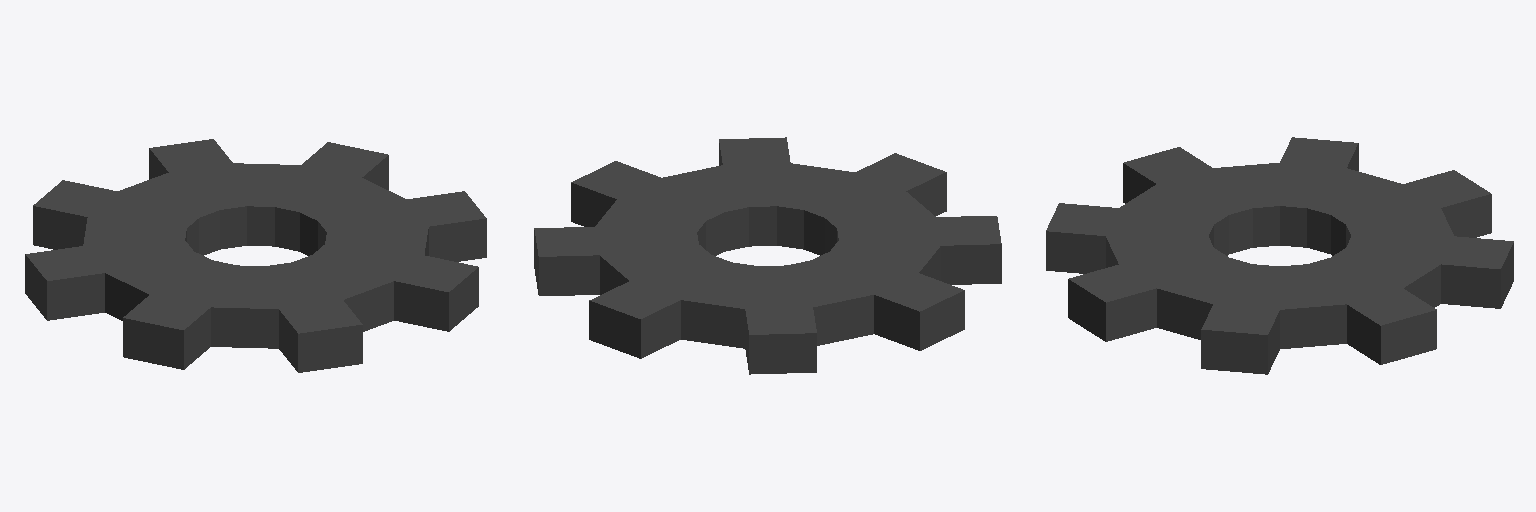
Rendered from Cog.obj.
3 views of the same model, side by side, from view 1: azimuth 30°, elevation 25°; view 2: azimuth 150°, elevation 25°; view 3: azimuth 270°, elevation 25° (orthographic).
Visible parts, largest first — view 1: Cog; view 2: Cog; view 3: Cog.
Boxes of the visible parts, <box> form: Cog: <box>25,139,486,372</box>; Cog: <box>534,137,1001,374</box>; Cog: <box>1046,137,1513,374</box>.
Bounding box in the file's own units: 0.5373 × 0.05 × 0.5373.